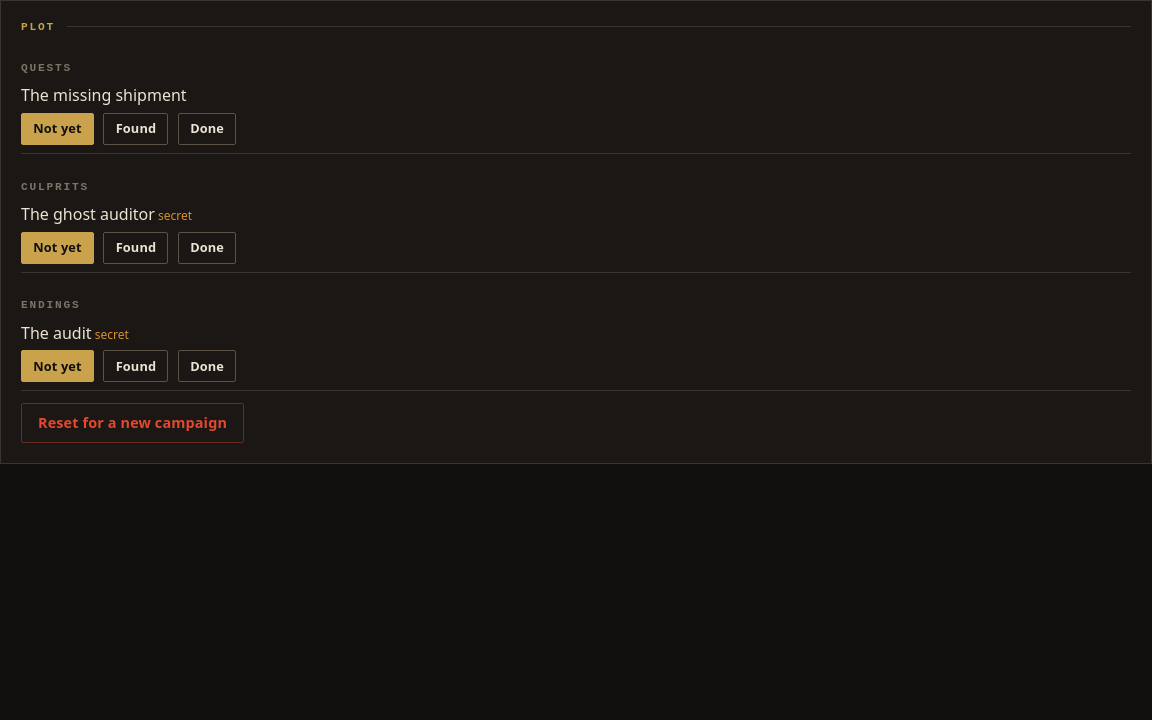
Test: PlotPanel › puts the old status back and says so when saving fails
Click the button "Found" below "The ghost auditor". click: (136,248)
box: [104,232,168,264]
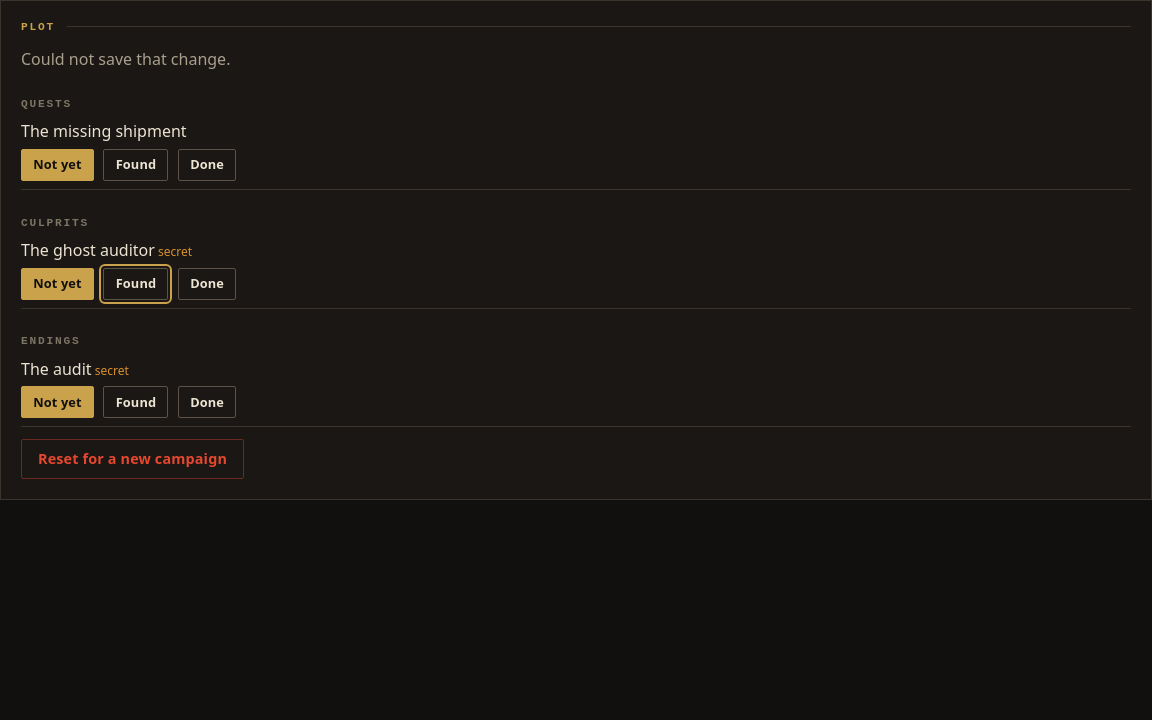
Result: the text "Could not save that change." is shown at [21,48,230,70]
